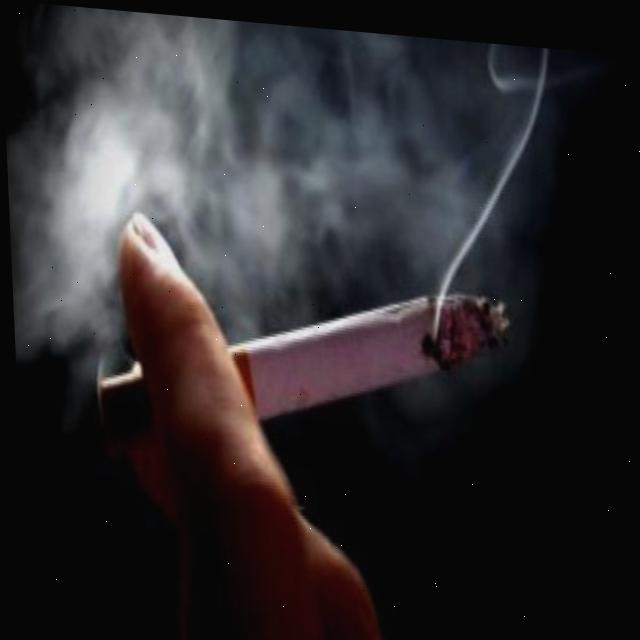cigarette: (84, 260, 524, 483)
